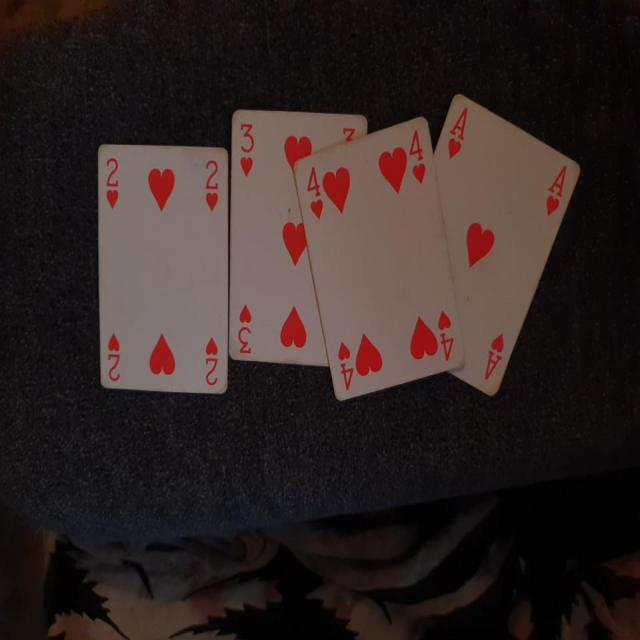2 Hearts: (91, 139, 234, 401)
3 Hearts: (225, 113, 377, 366)
4 Hearts: (284, 114, 469, 412)
A Hearts: (419, 90, 582, 397)
